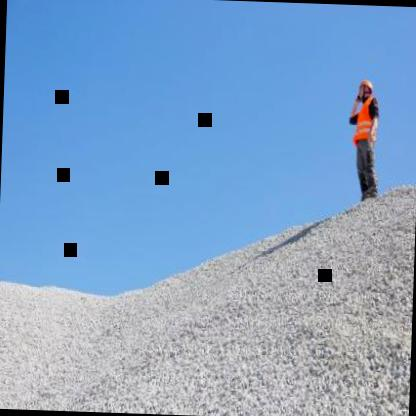helmet: (356, 77, 378, 104)
